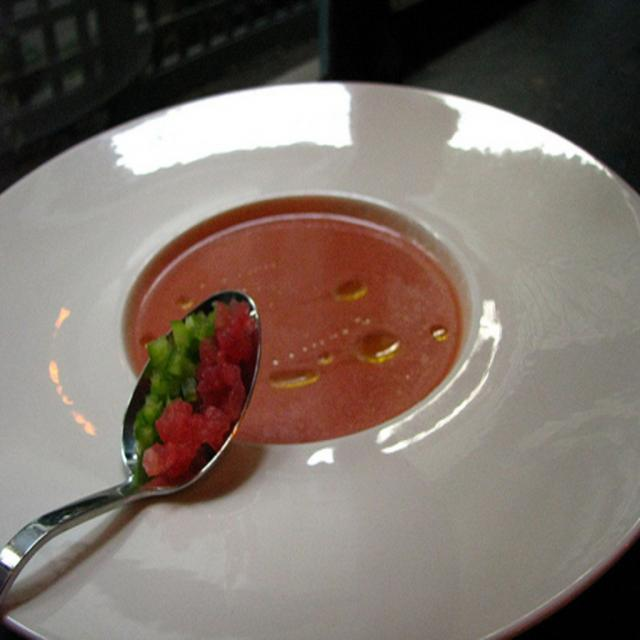non-organic waste: (0, 66, 638, 640)
